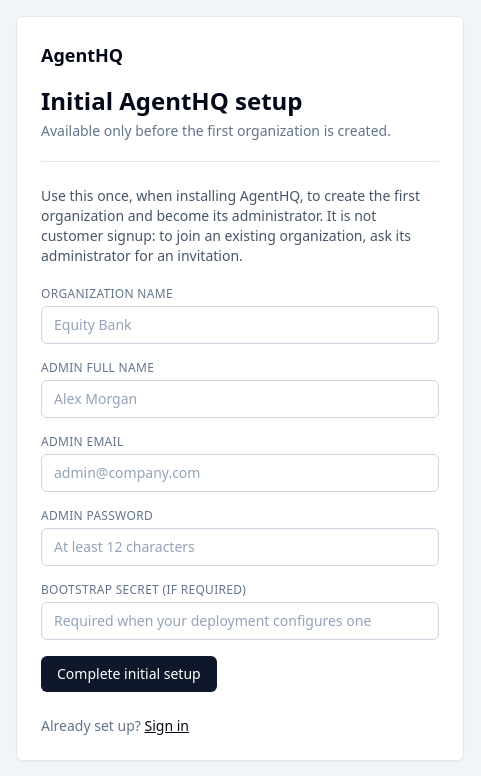
Test case: canonical /bootstrap page › 6. a missing secret gets exactly the same message as a wrong one
This screenshot has width=481, height=776.
Type "Founding Org" into the field labelled "Organization name".
click(240, 325); type("Founding Org")  # box [41,306,439,344]
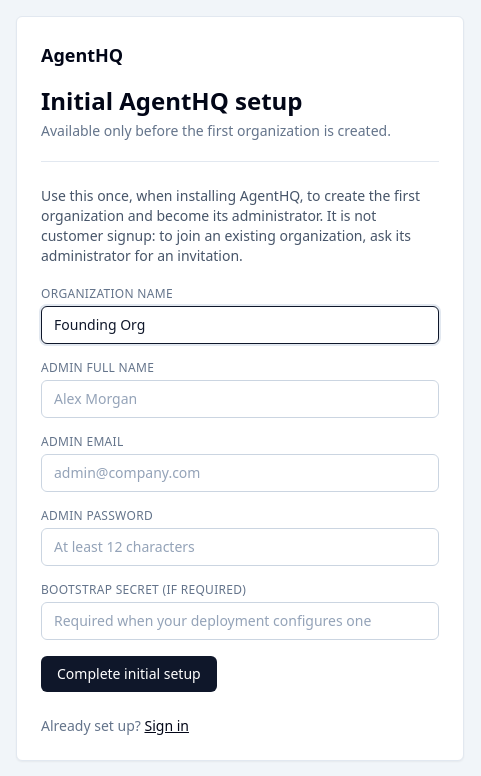
Type "Founder" into the field labelled "Admin full name".
click(240, 399); type("Founder")  # box [41,380,439,418]
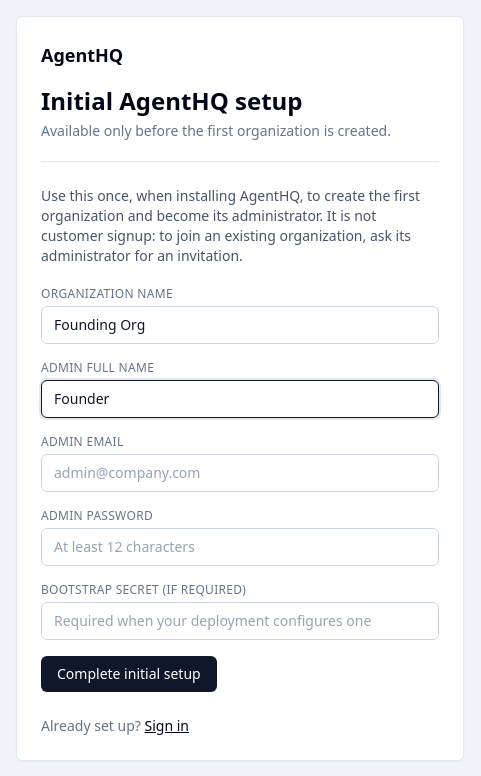
Type "founder@example.com" into the field labelled "Admin email".
click(240, 473); type("founder@example.com")  # box [41,454,439,492]
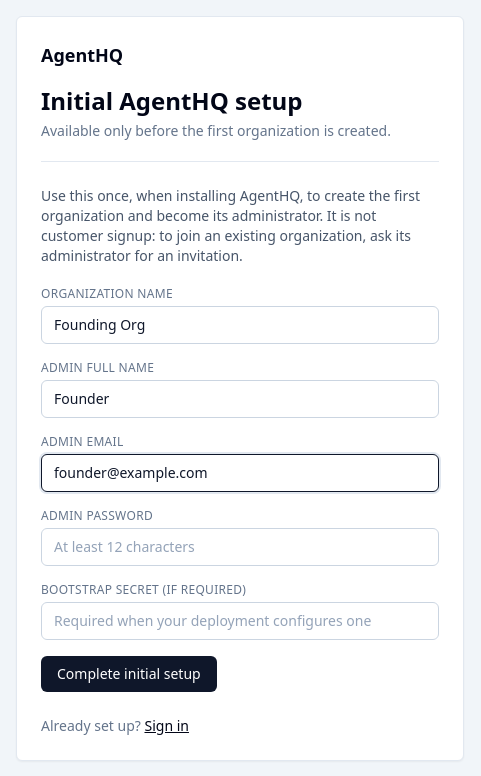
Type "FounderPassword123!" into the password field labelled "Admin password".
click(240, 547); type("FounderPassword123!")  # box [41,528,439,566]
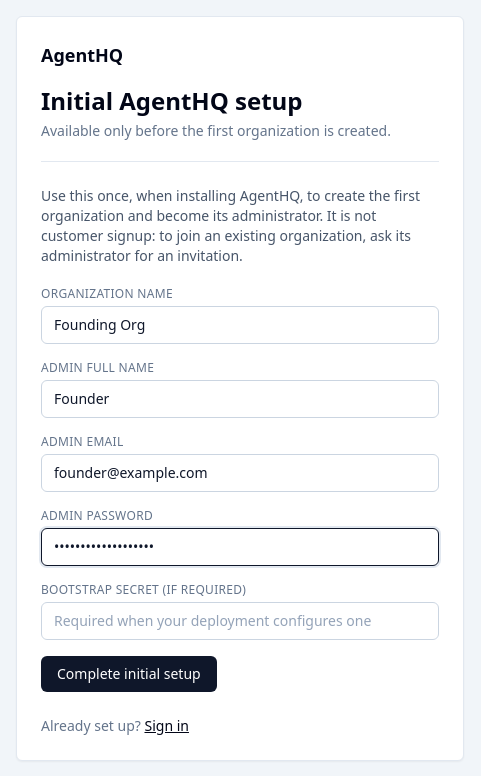
Click the button "Complete initial setup".
click(129, 674)  # box [41,656,217,692]
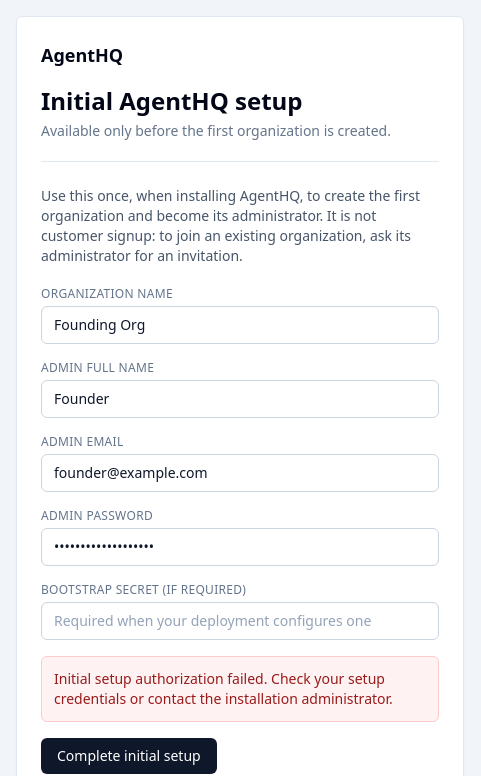
Expected: the text "Initial setup authorization failed. Check your setup credentials or contact the installation administrator." is shown, [54,669,393,708]
